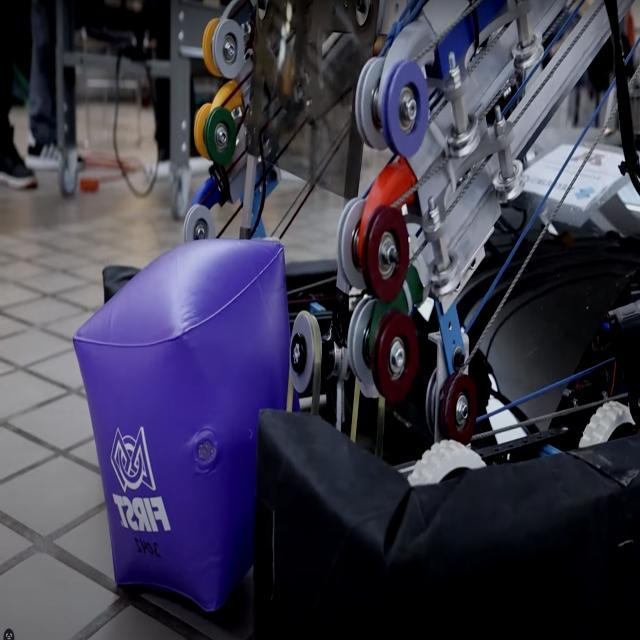frc_cube: (73, 227, 295, 616)
